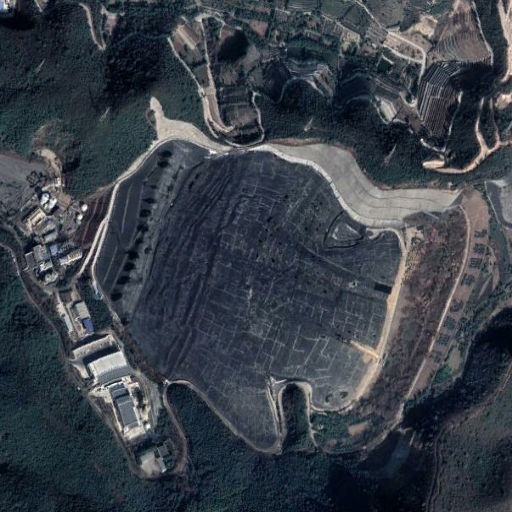lf: (92, 96, 464, 450)
